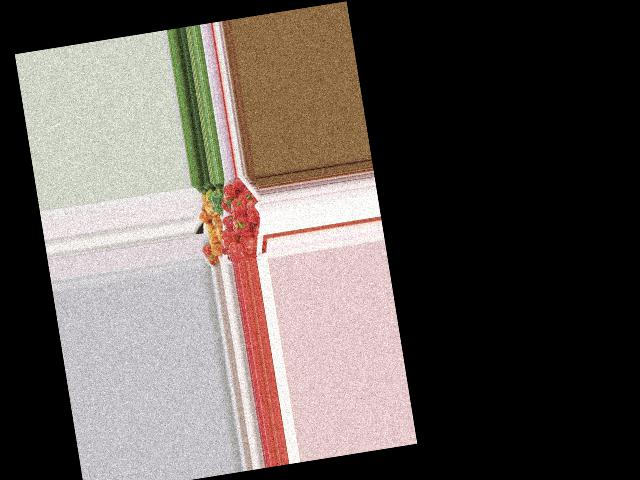bell_pepper: (244, 198, 262, 225)
